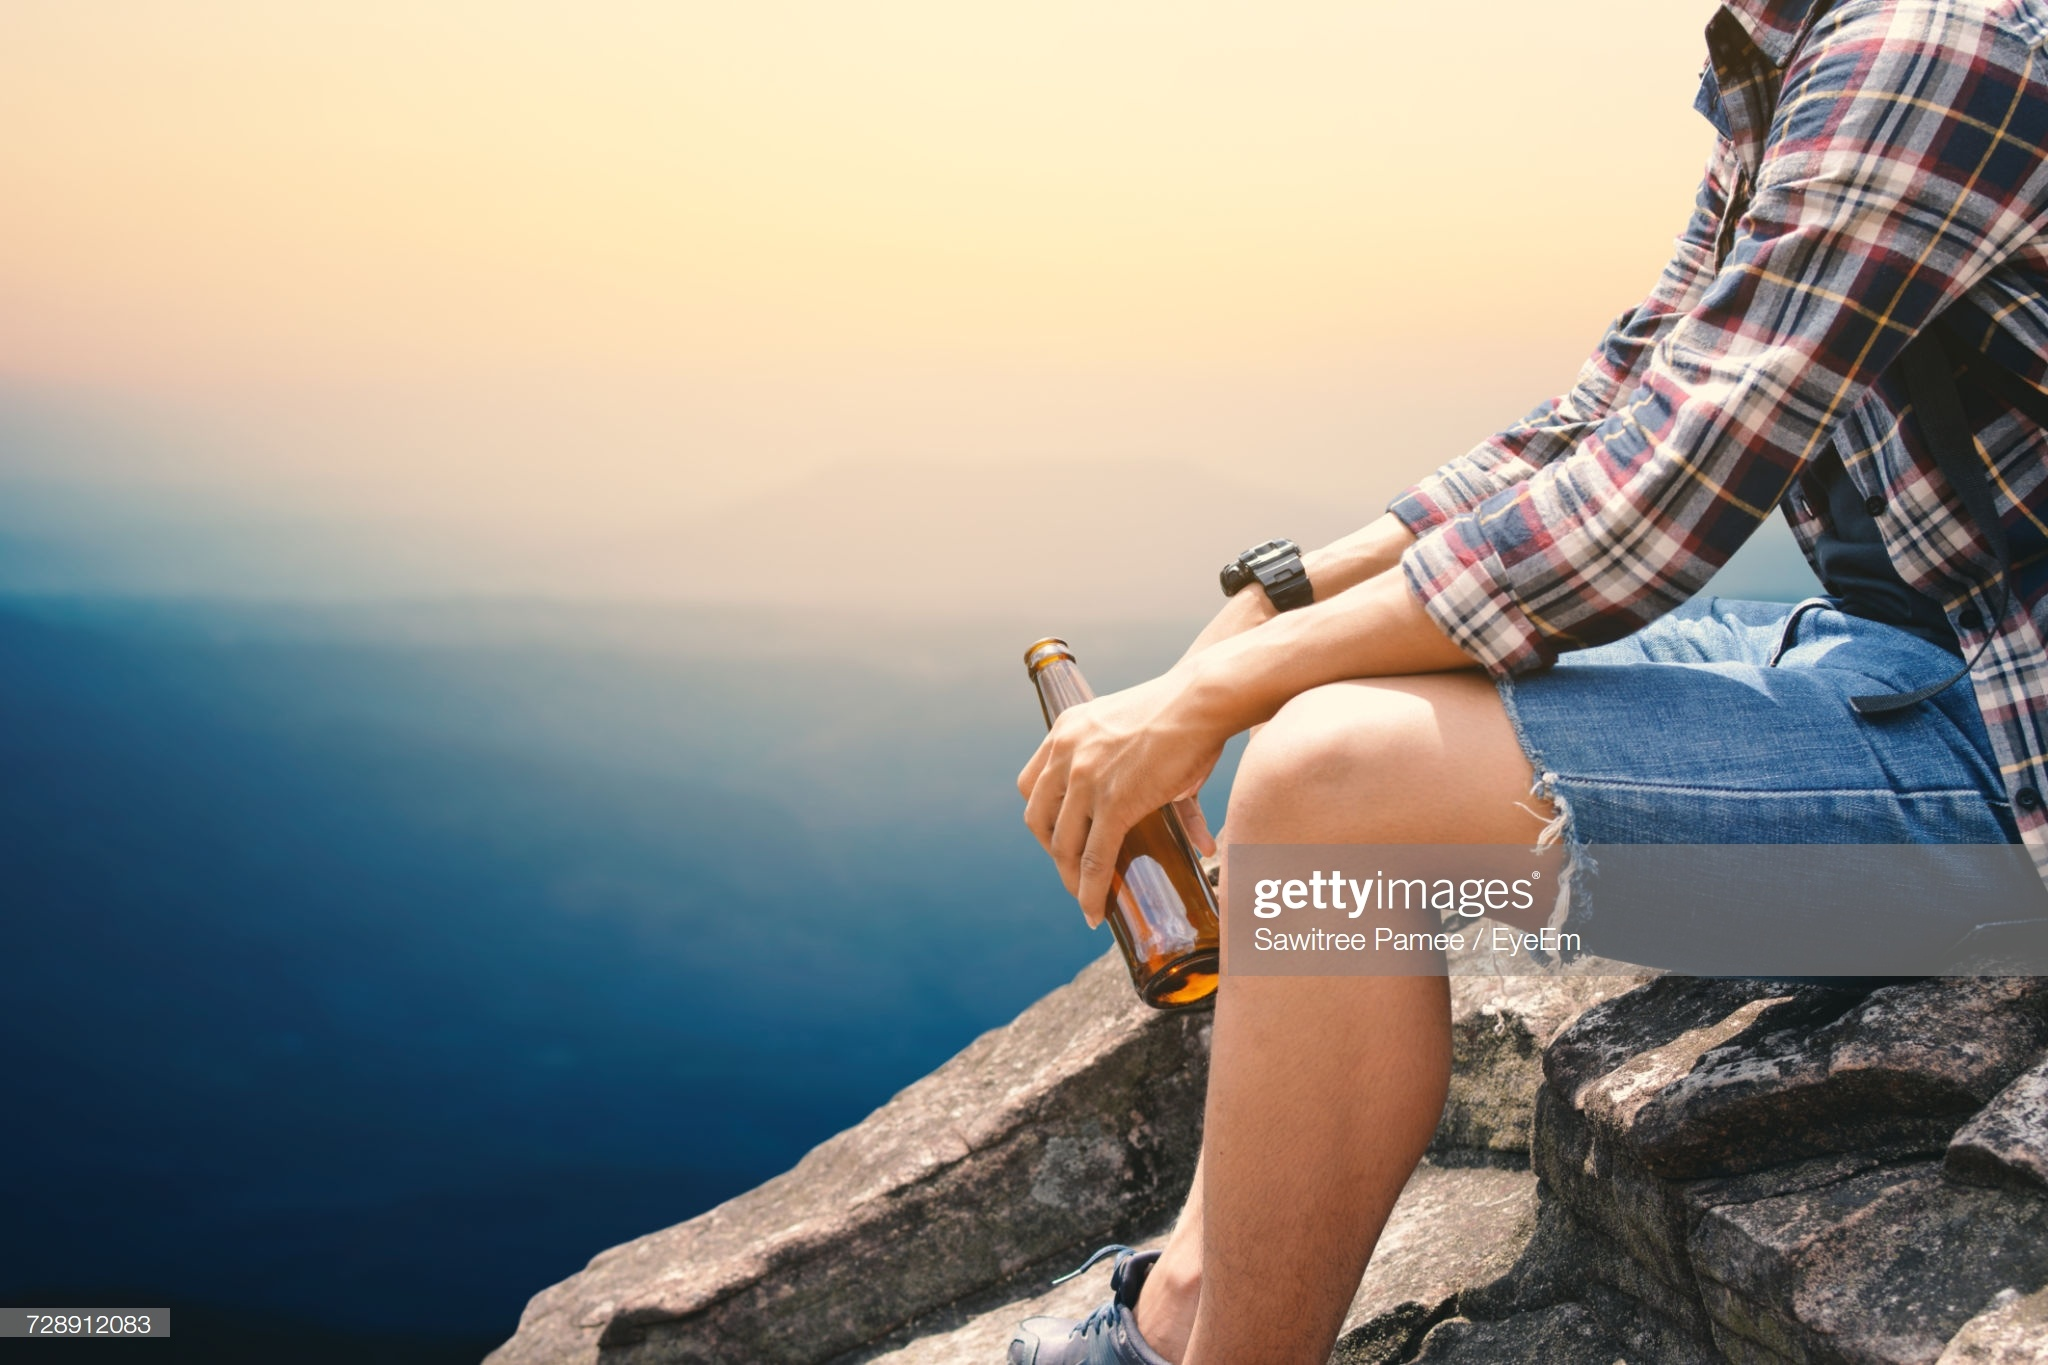beerBottle: (1022, 640, 1217, 1004)
